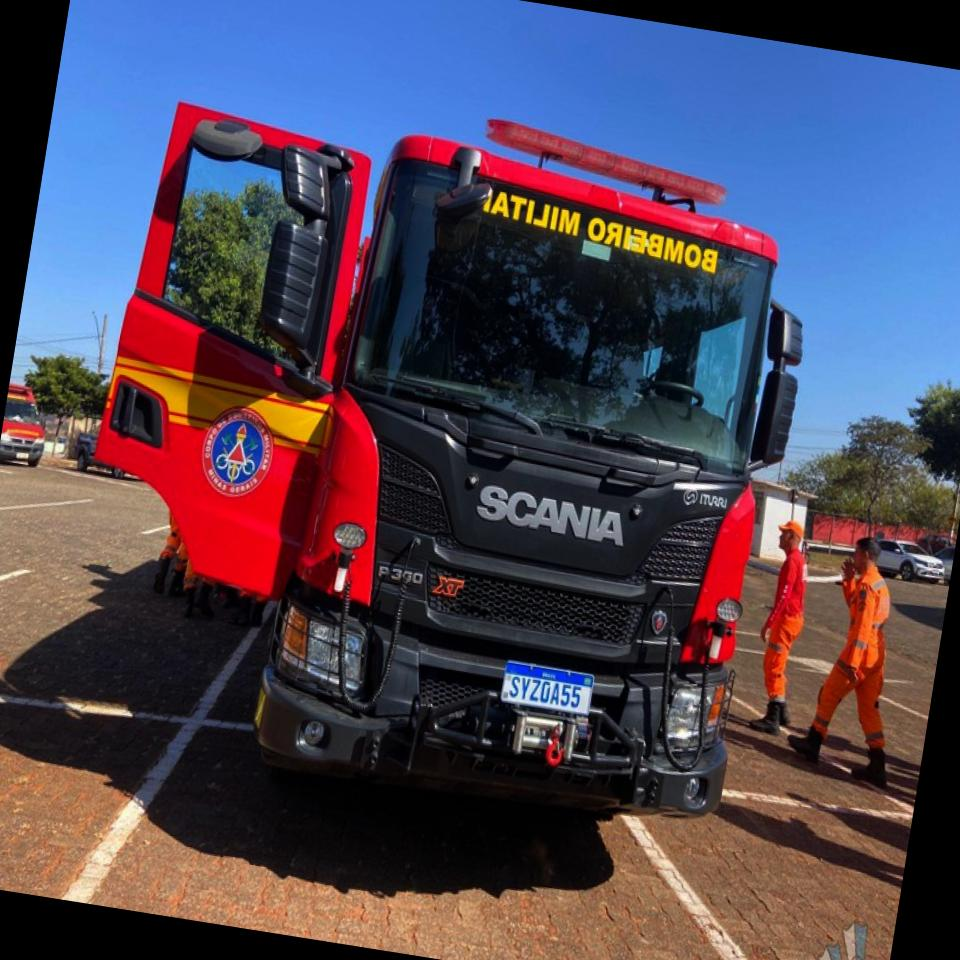viatura: (42, 58, 839, 868)
